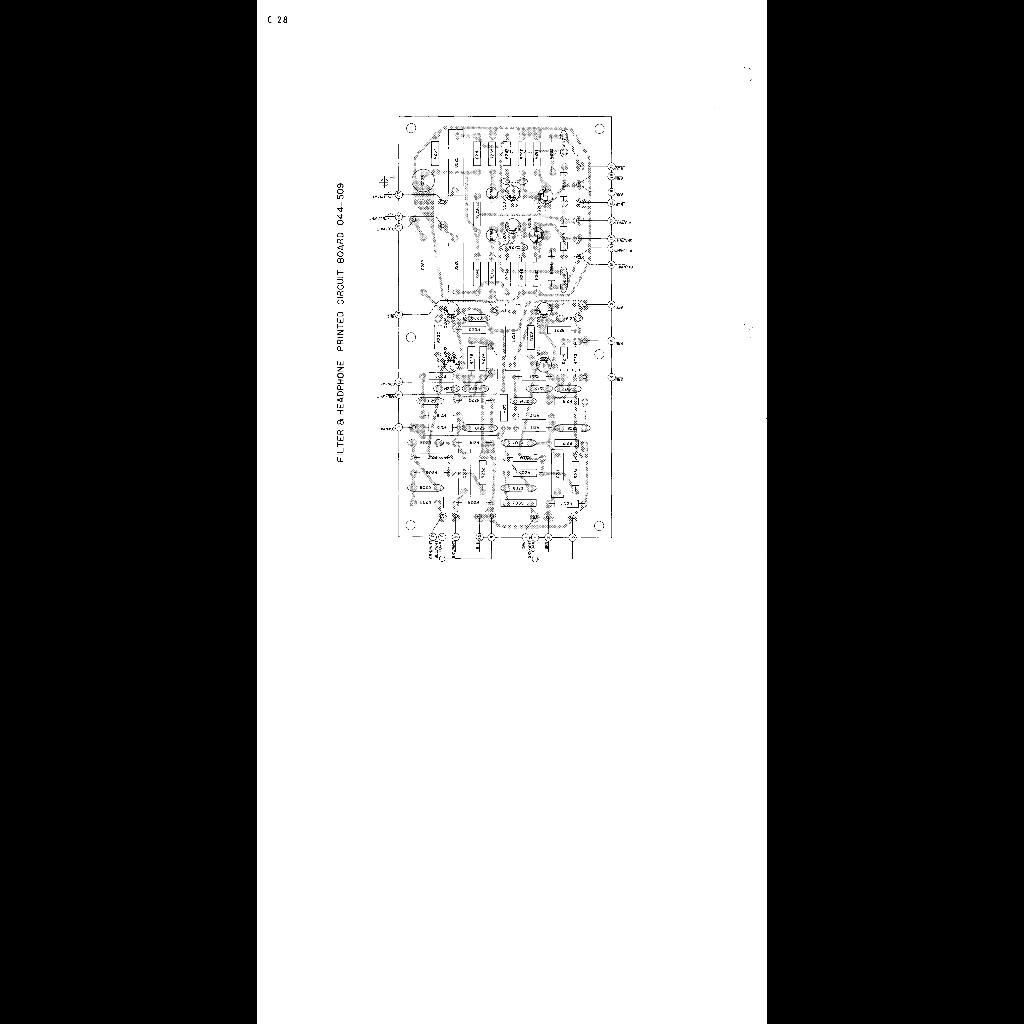Board: (332, 107, 628, 575)
